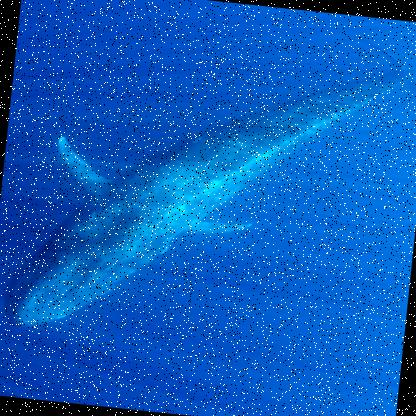blue_whale: (0, 13, 415, 379)
